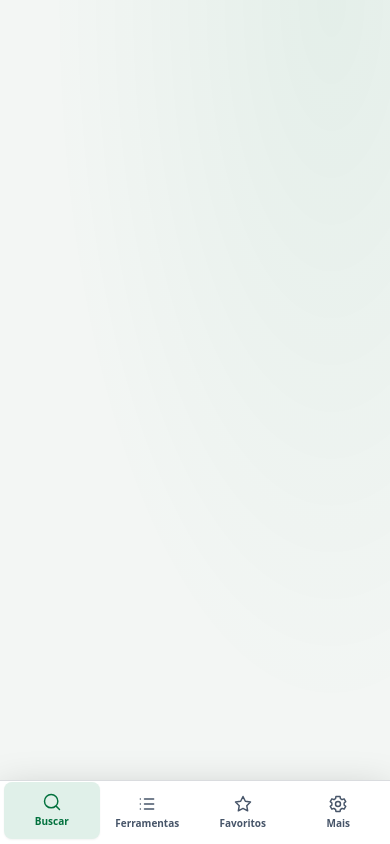
it: MobileNavigation › fecha a folha ao clicar no fundo
Click the button "Mais" at [338, 812], box x1=290 y1=784 x2=386 y2=841
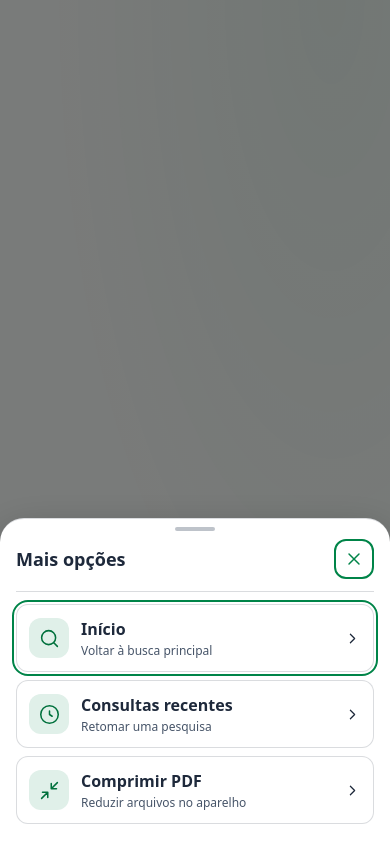
Check: the dialog "Mais opções" is shown, box x1=0 y1=518 x2=389 y2=843
Click the button with test id "bottom-sheet-backdrop" at [195, 422], box x1=0 y1=0 x2=389 y2=843
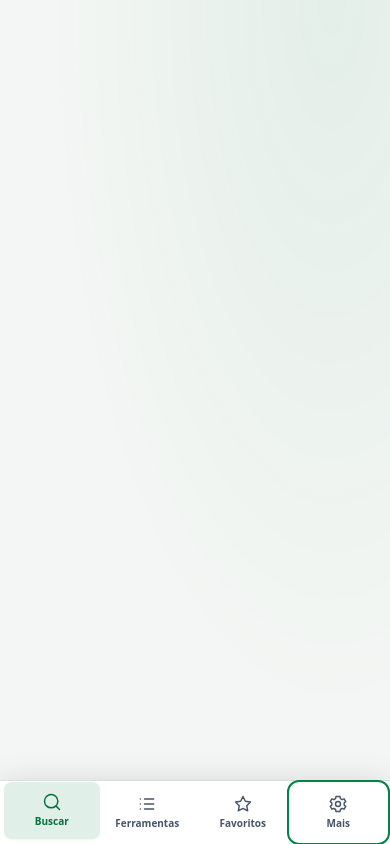
Check: the dialog is gone
